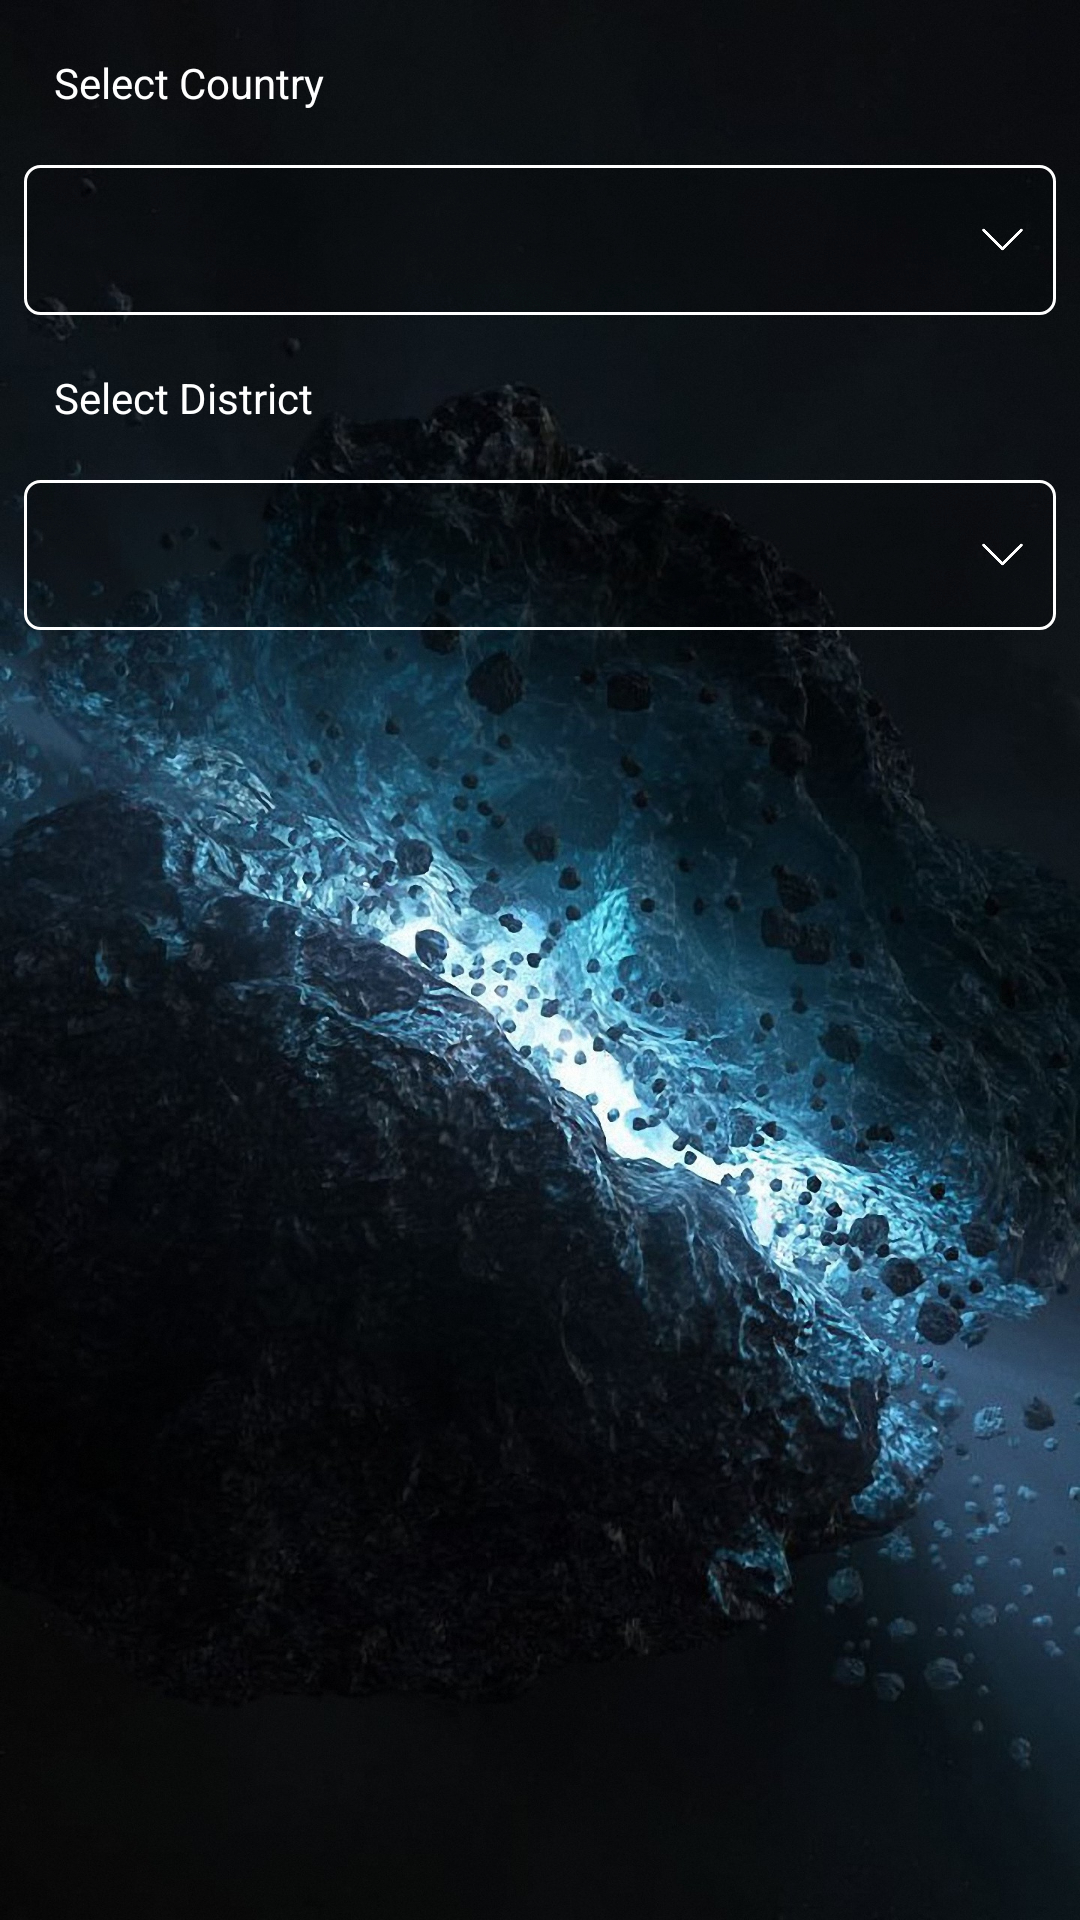

Screen size 1080x1920. Icon name, then its center in pixels as (x,y):
down arrow: (1002,239), (1002,554)
